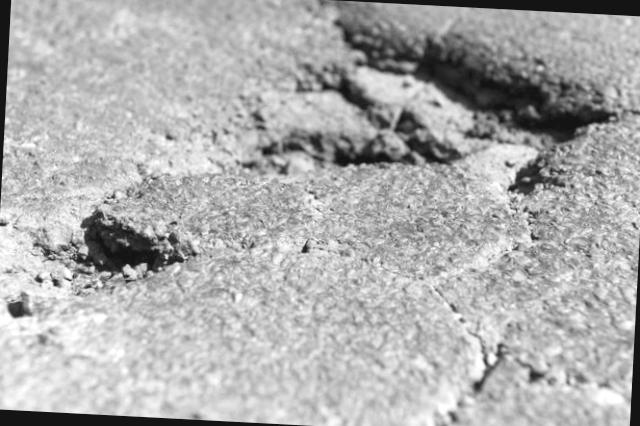Pothole: (216, 4, 640, 223), (0, 176, 259, 317)
